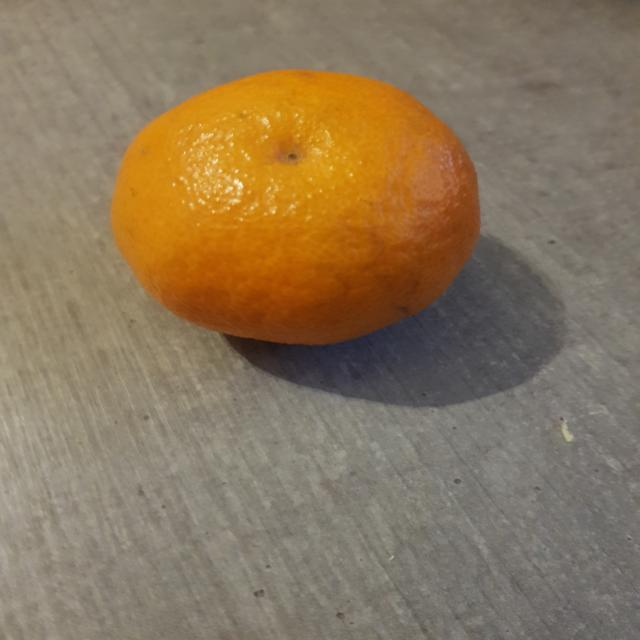Orange: (109, 69, 482, 348)
